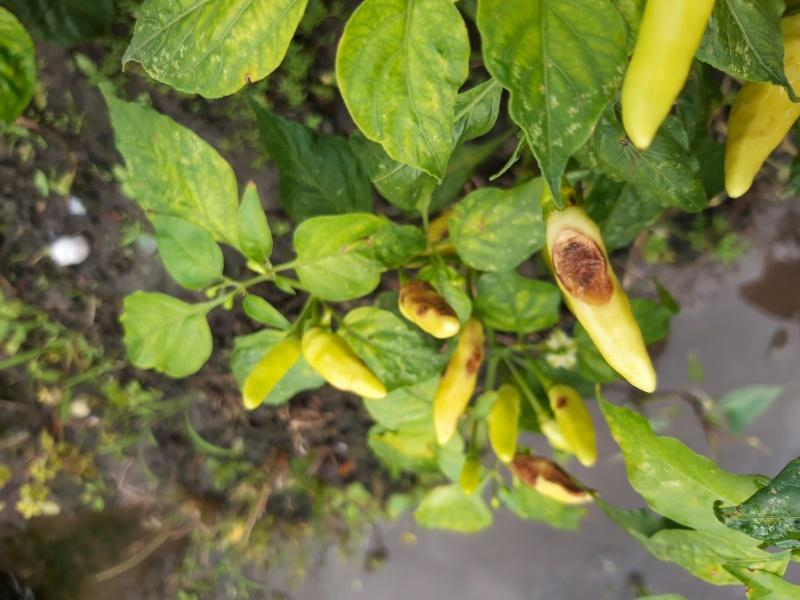antraknosa: (543, 204, 656, 392), (432, 317, 487, 446), (507, 452, 601, 504), (545, 382, 597, 467), (398, 278, 461, 339)
cabai_normal: (620, 1, 719, 149), (723, 14, 800, 198), (297, 326, 388, 399), (243, 334, 302, 410), (488, 382, 526, 462)
